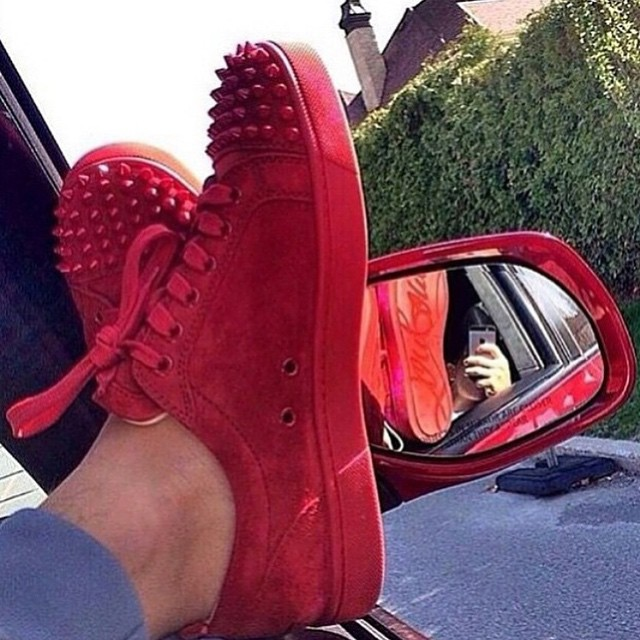sneaker: (1, 27, 406, 638), (36, 129, 217, 419)
